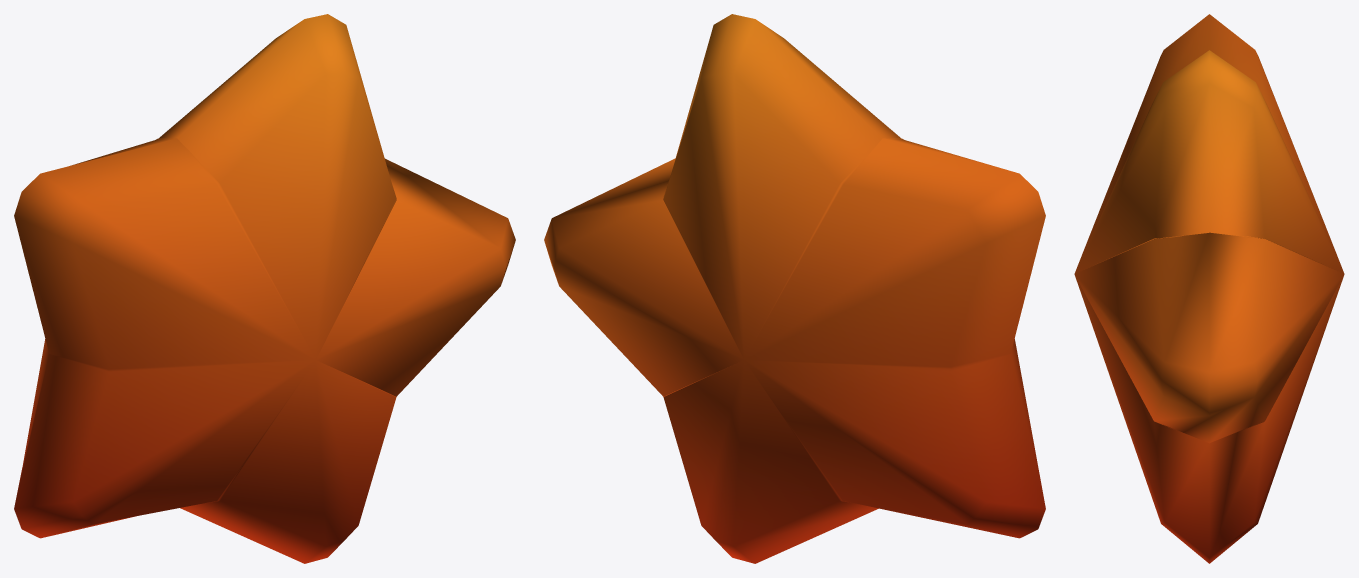
File: Star_V1_0.fbx
The picture shows the model from 3 angles, left to right: view 1: azimuth 30°, elevation 25°; view 2: azimuth 150°, elevation 25°; view 3: azimuth 270°, elevation 25°; orthographic projection. The views are drawn at different scales.
Parts seen in each view (by area): view 1: Star_V1_0; view 2: Star_V1_0; view 3: Star_V1_0.
Part boxes in pixels (bbox=[...]): Star_V1_0: bbox=[14, 14, 515, 563]; Star_V1_0: bbox=[544, 14, 1045, 563]; Star_V1_0: bbox=[1074, 14, 1344, 563].
Size of the model in its own units: 0.4434 by 0.46 by 0.2235.
